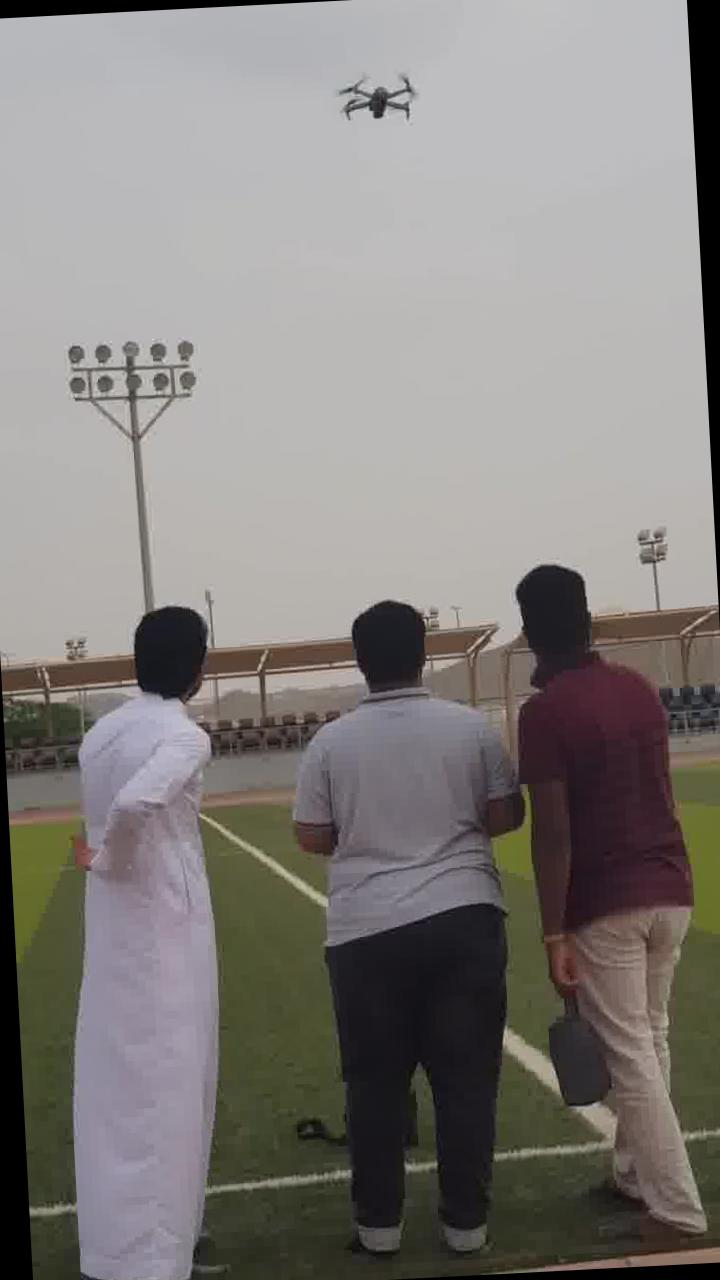drone: (330, 69, 428, 139)
